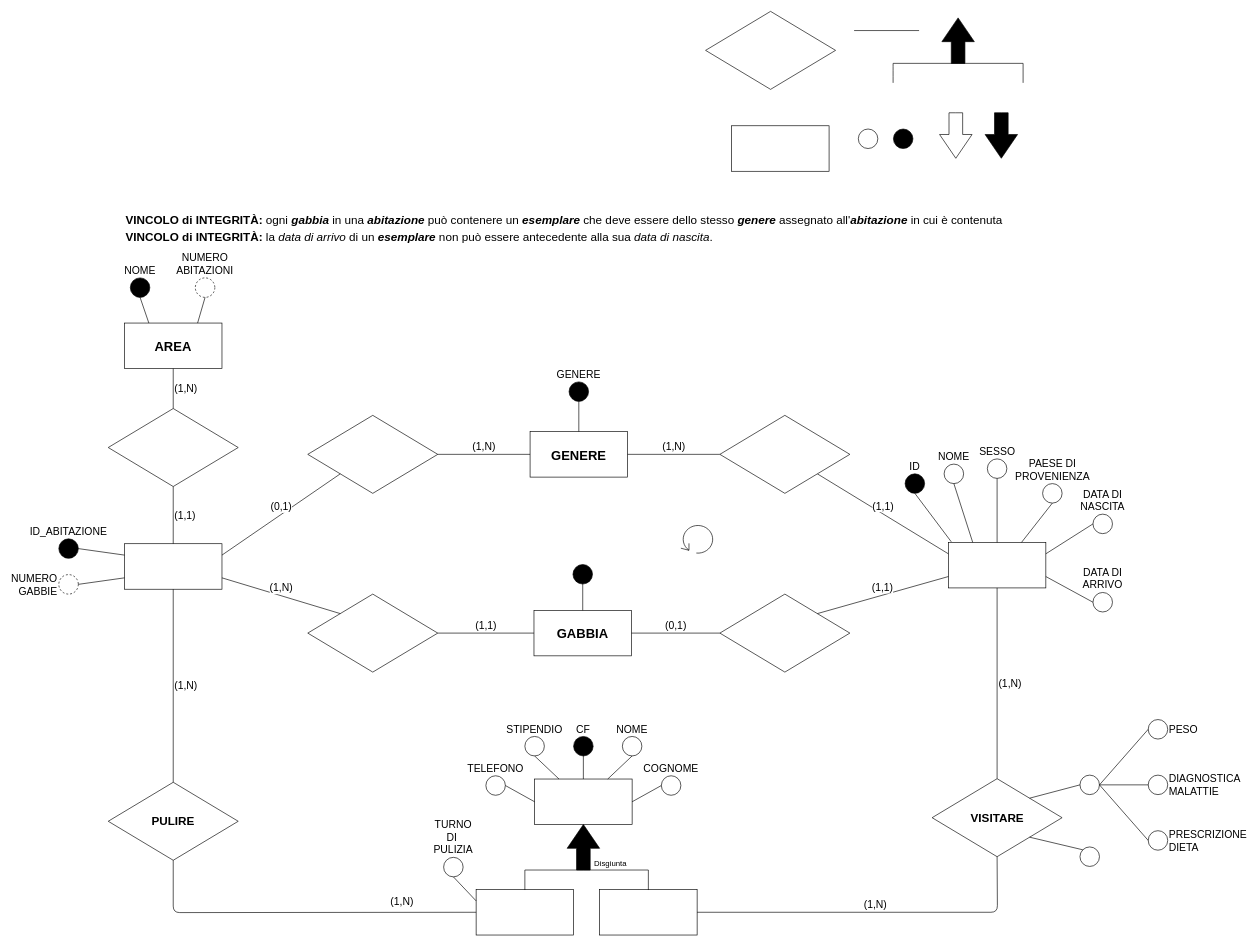
Some shapes in this 1258 by 946 pixel diagram are drawn without their labels. The shapes that lost their labels are listed below. From the top down, each one's centre as x and y in pixels, then its label:
At (x=173, y=447): "COLLOCATA".
At (x=372, y=454): "ASSEGNATO".
At (x=784, y=454): "APPARTIENE".
At (x=173, y=566): "ABITAZIONE".
At (x=582, y=574): "ID_GABBIA".
At (x=997, y=565): "ESEMPLARE".
At (x=372, y=632): "IN".
At (x=784, y=632): "CONTENUTO".
At (x=583, y=801): "DIPENDENTE".
At (x=1089, y=784): "RISULTATI VISITA".
At (x=1089, y=856): "DATA".
At (x=524, y=912): "ADDETTO PULIZIE".
At (x=648, y=912): "VETERINARIO".
